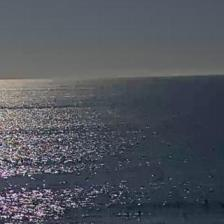surfer: (137, 210, 143, 216), (204, 199, 210, 204), (220, 203, 224, 207), (160, 223, 168, 223)
